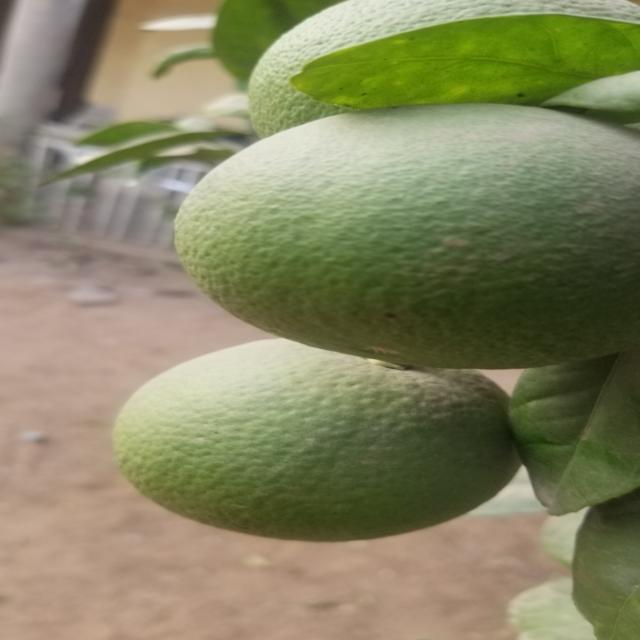Unripe: (173, 103, 640, 365), (111, 340, 513, 540), (248, 3, 640, 134)
